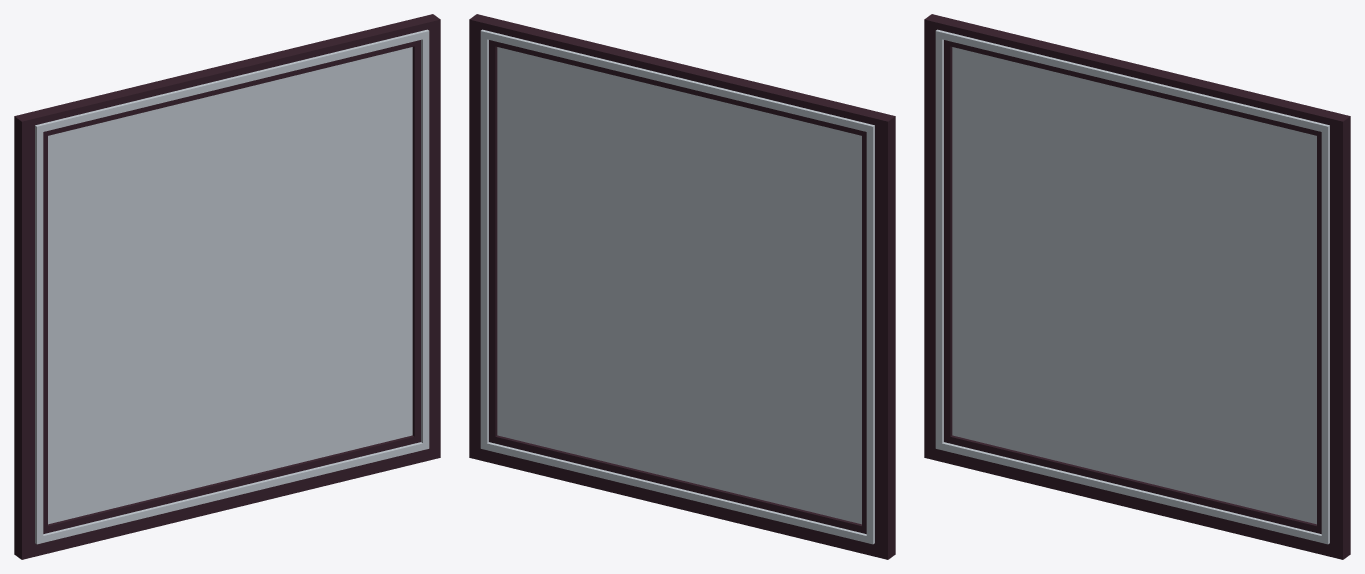
The model's file is Blank Painting.fbx.
The picture shows the model from 3 angles, left to right: view 1: azimuth 30°, elevation 25°; view 2: azimuth 150°, elevation 25°; view 3: azimuth 330°, elevation 25°; orthographic projection.
Visible parts, largest first — view 1: generated; view 2: generated; view 3: generated.
Part boxes in pixels (x1,y1,x2,y2): generated: (14, 14, 440, 559); generated: (469, 14, 895, 559); generated: (924, 14, 1350, 559).
Size of the model in its own units: 2560 by 2560 by 120.
